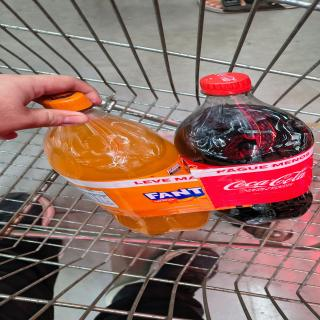beverage: (156, 70, 308, 218), (72, 86, 206, 216)
